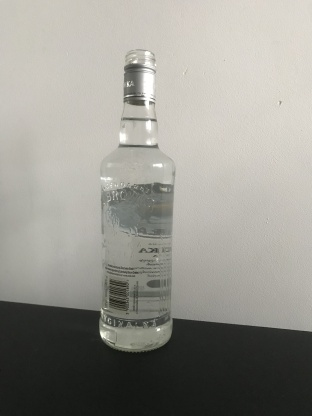nakretka: (121, 46, 158, 106)
